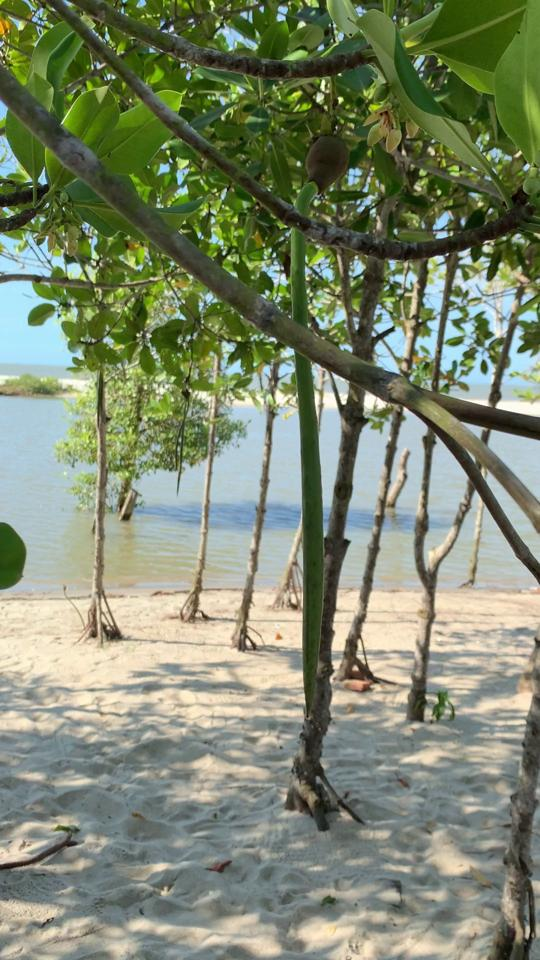setengah matang: (287, 123, 360, 729)
